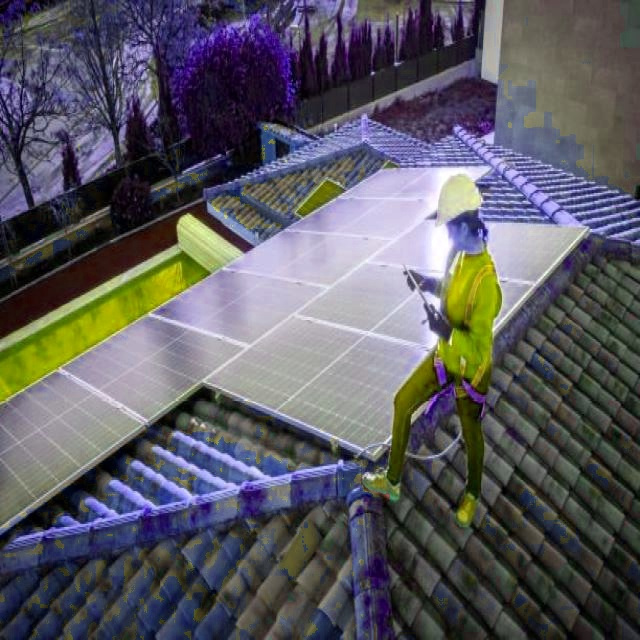safety belt: (433, 245, 508, 428)
